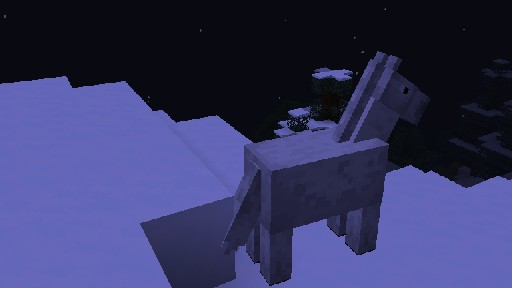horse: (213, 50, 430, 288)
